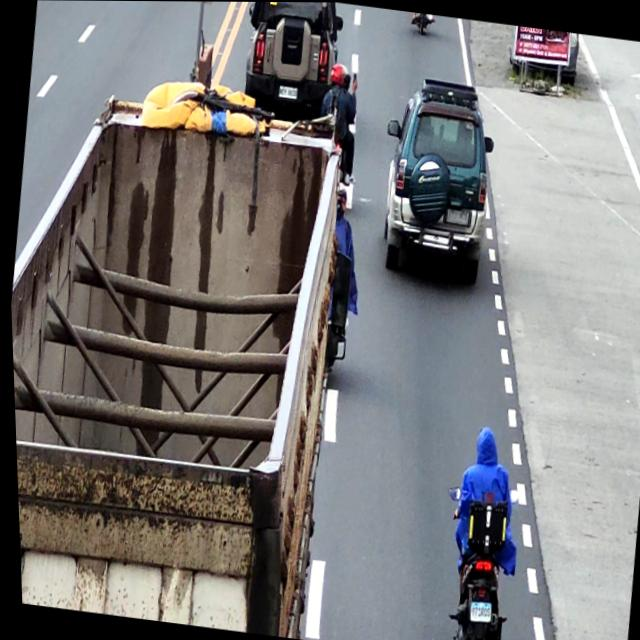Car: (367, 73, 503, 286), (238, 1, 348, 113)
License-Plate: (463, 600, 488, 622), (444, 208, 468, 225), (277, 85, 297, 99)
Motorcycle: (425, 480, 519, 640)
Truck: (2, 77, 378, 640)
